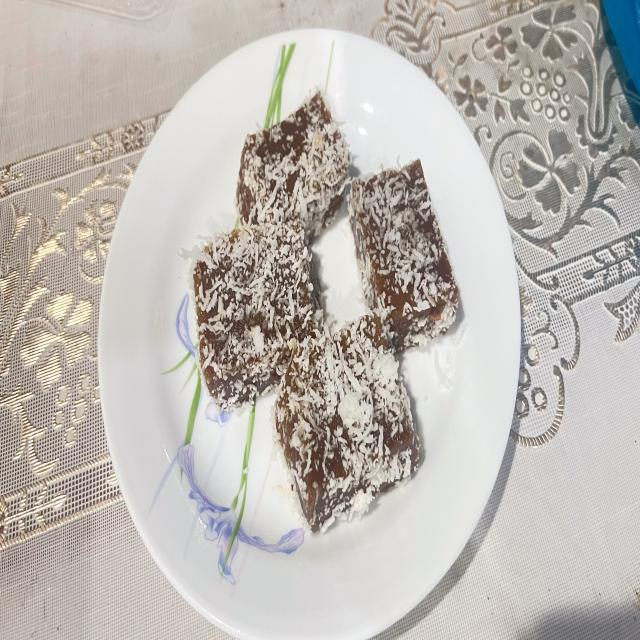kaswi: (275, 313, 419, 531), (191, 220, 322, 411), (349, 160, 459, 351), (236, 91, 351, 236)
